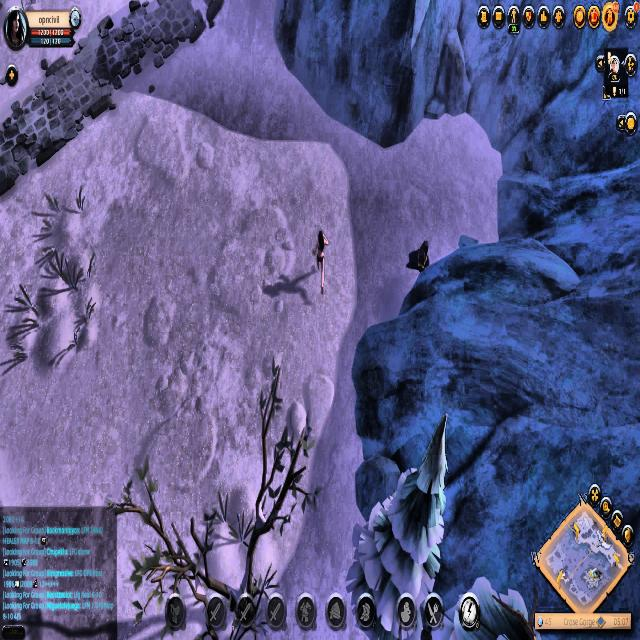copper_ore: (406, 230, 435, 286)
